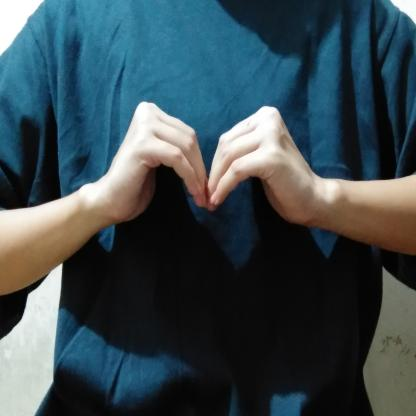how: (83, 90, 338, 255)
